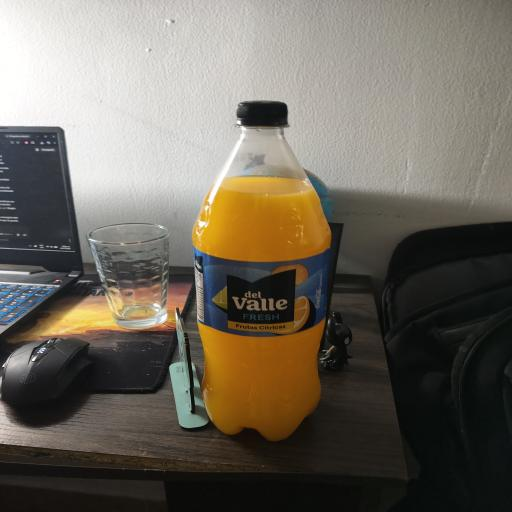Jugo del valle: (193, 102, 330, 440)
